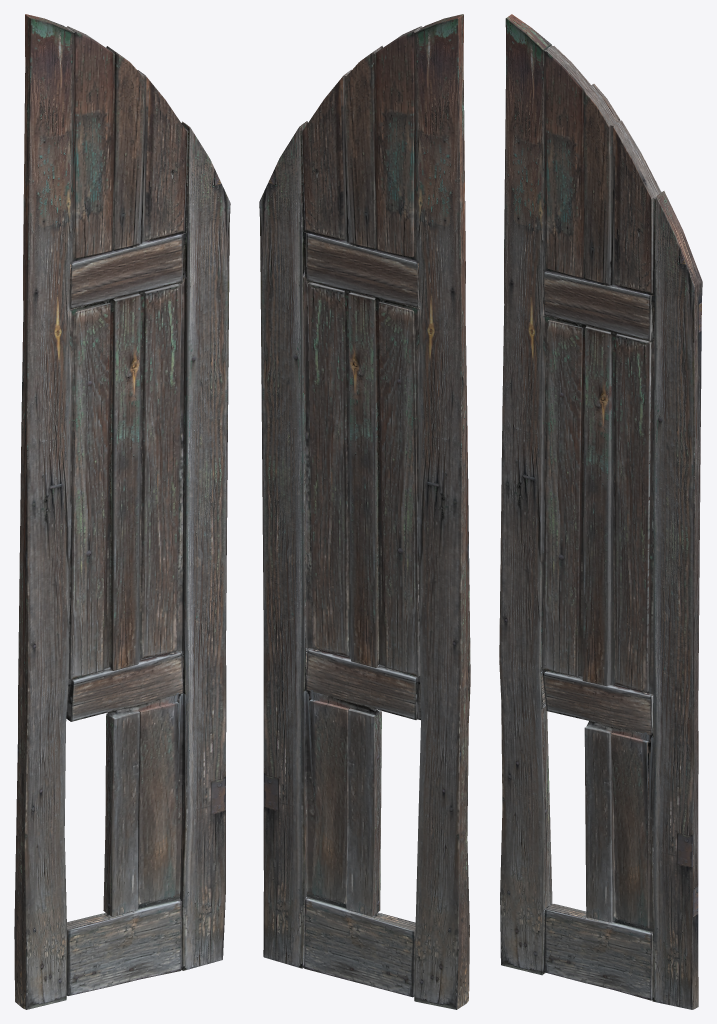
File: SM_Door_01_04.fbx
3 views of the same model, side by side, from view 1: azimuth 30°, elevation 25°; view 2: azimuth 150°, elevation 25°; view 3: azimuth 330°, elevation 25° (orthographic). The views are drawn at different scales.
Visible parts, largest first — view 1: sm_Door_01_04_LOD0; view 2: sm_Door_01_04_LOD0; view 3: sm_Door_01_04_LOD0.
Boxes of the visible parts, x1,y1,x2,y2 form: sm_Door_01_04_LOD0: (14, 14, 230, 1009); sm_Door_01_04_LOD0: (259, 14, 470, 1009); sm_Door_01_04_LOD0: (499, 14, 702, 1009).
Size of the model in its own units: 8.65 by 67.26 by 311.
